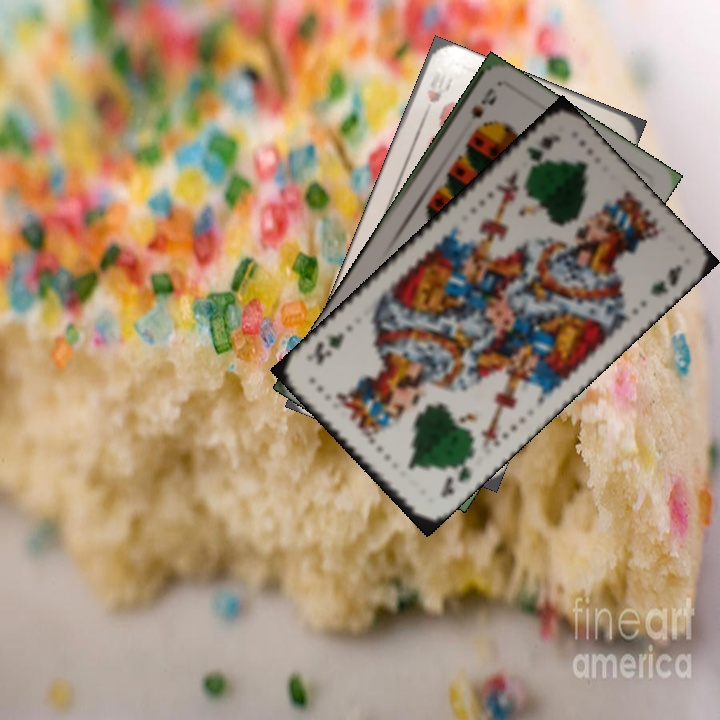GK: (522, 130, 564, 175), (435, 455, 475, 501)
H10: (418, 63, 450, 122)
S9: (467, 83, 500, 123)
